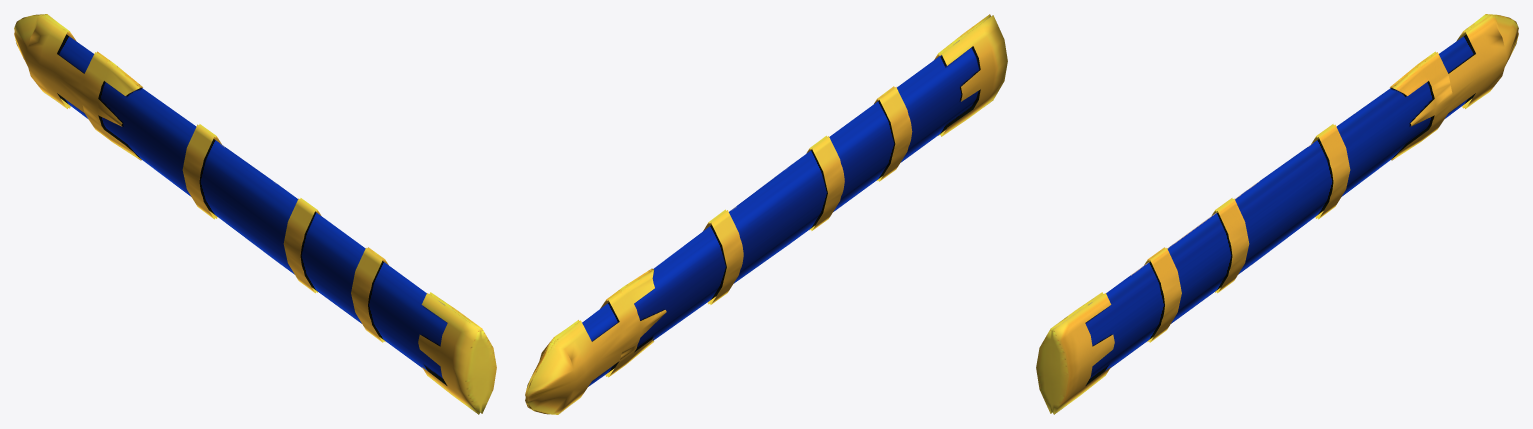
File: arbiters_blade_sheath.obj
3 renders of one model, left to right at view 1: azimuth 30°, elevation 25°; view 2: azimuth 150°, elevation 25°; view 3: azimuth 330°, elevation 25°, orthographic.
Parts seen in each view (by area): view 1: Sheath; view 2: Sheath; view 3: Sheath.
Part boxes in pixels (x1,y1,x2,y2): Sheath: (14,14,496,414); Sheath: (525,14,1007,414); Sheath: (1036,14,1518,414).
Bounding box in the file's own units: 0.0953 × 0.1959 × 1.93.
